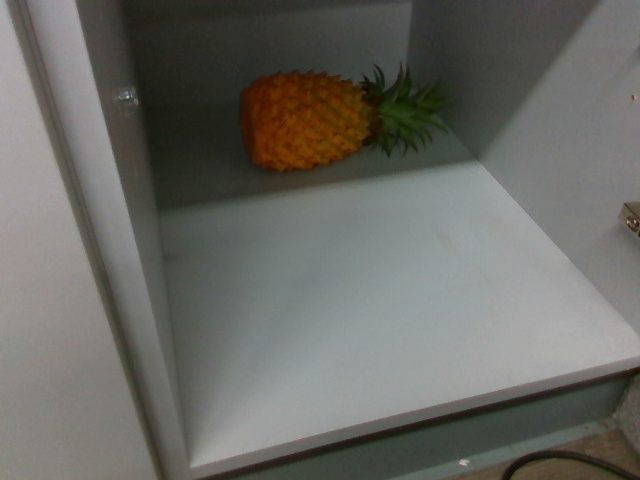pineapple: (240, 61, 455, 171)
